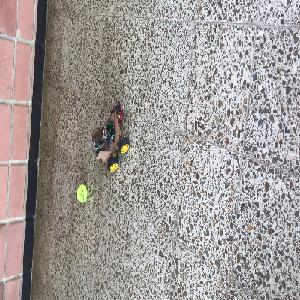Ball: (76, 185, 87, 202)
Robot: (92, 105, 130, 172)
